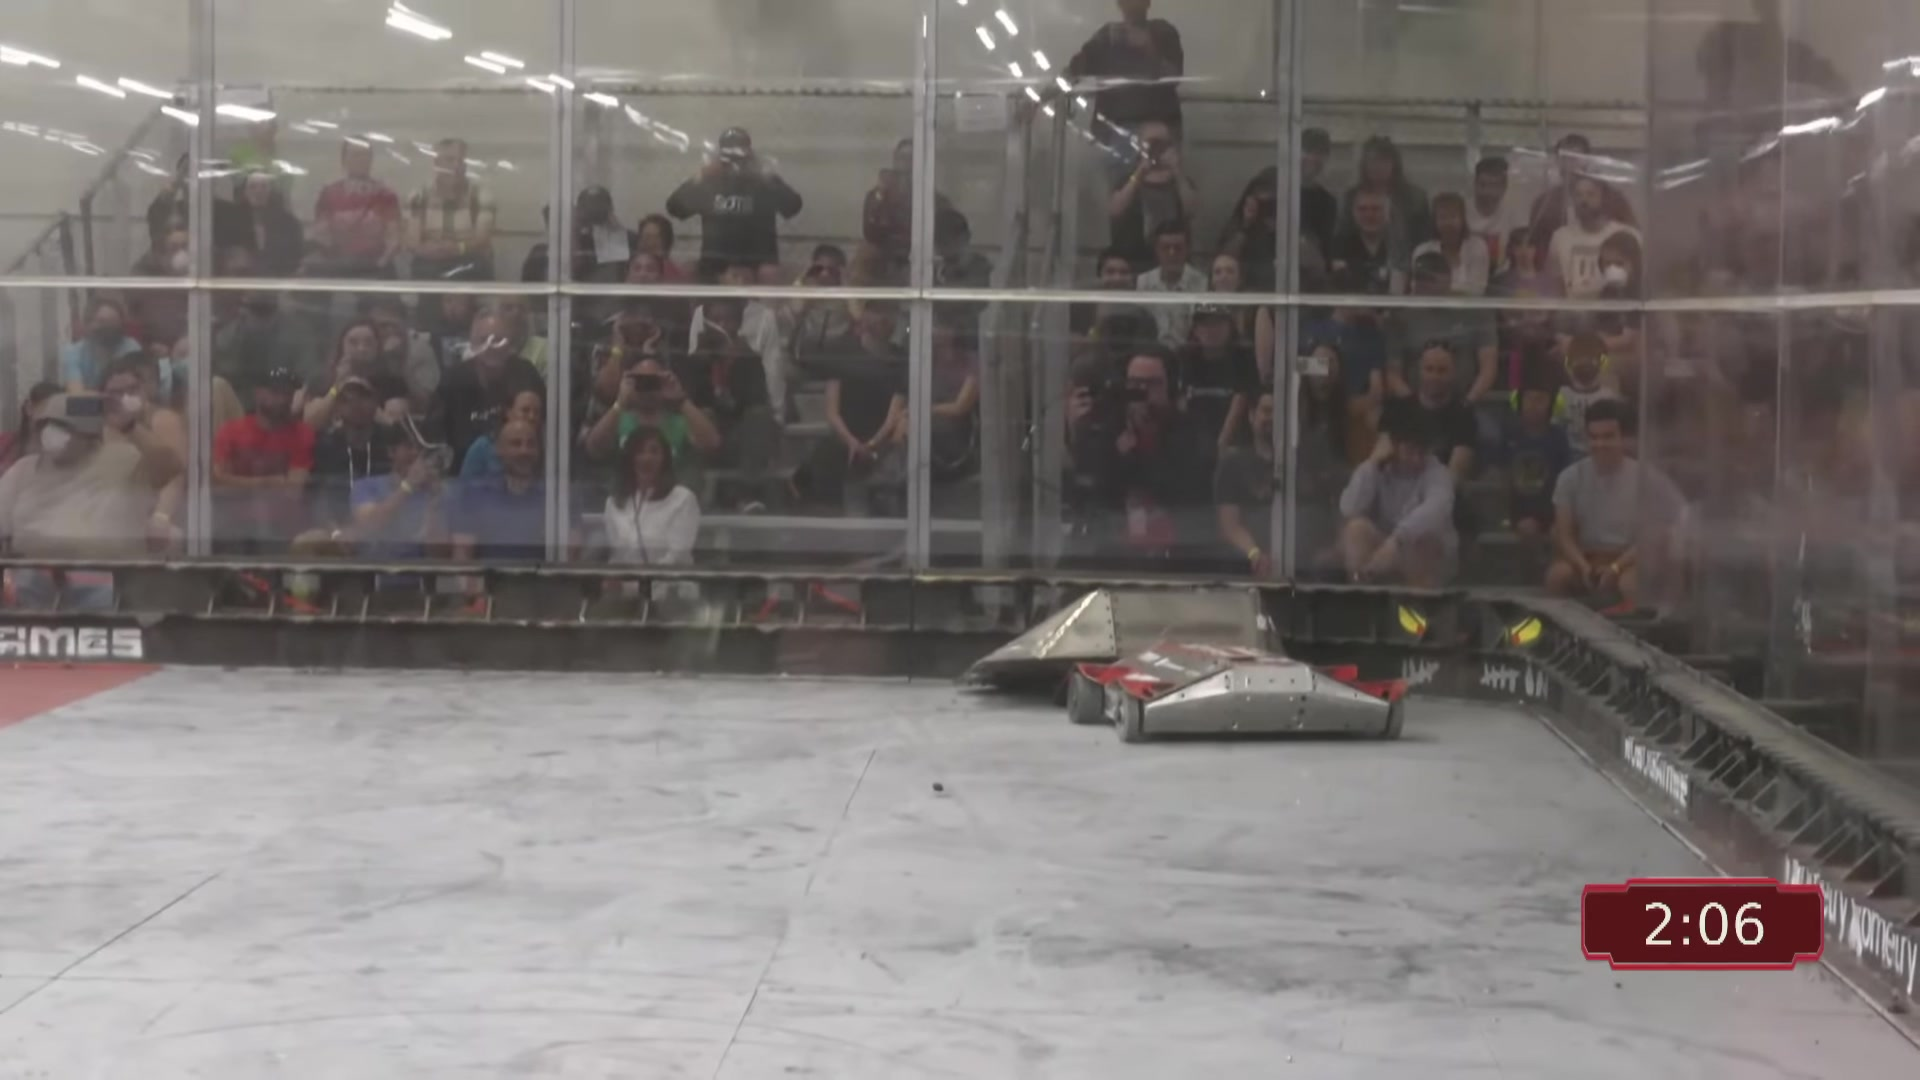combatbot: (1071, 654, 1412, 750), (953, 591, 1288, 687)
